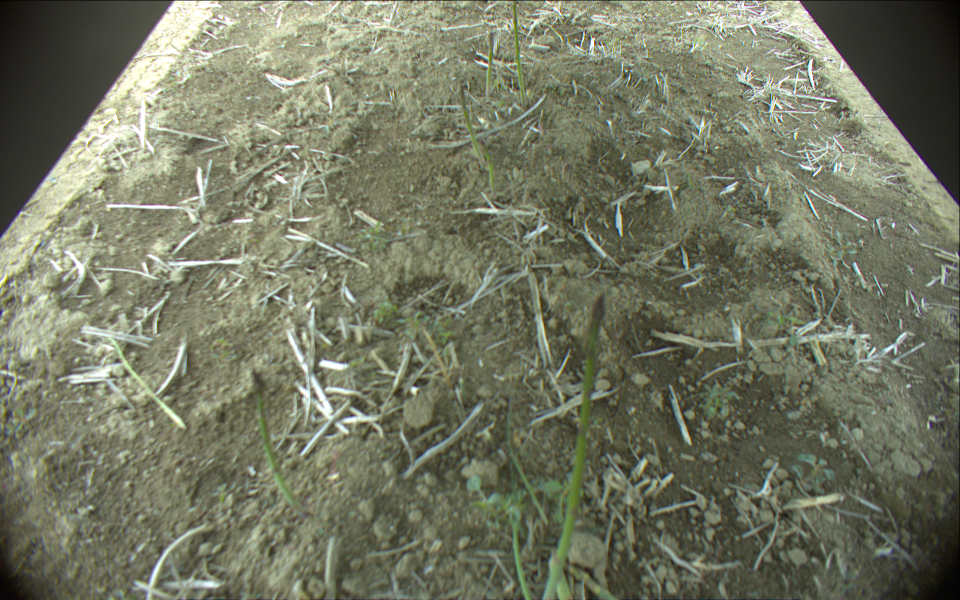aspa: (542, 292, 607, 600), (250, 369, 312, 518), (458, 80, 489, 170), (506, 506, 532, 600), (507, 1, 529, 109), (485, 27, 496, 103)
